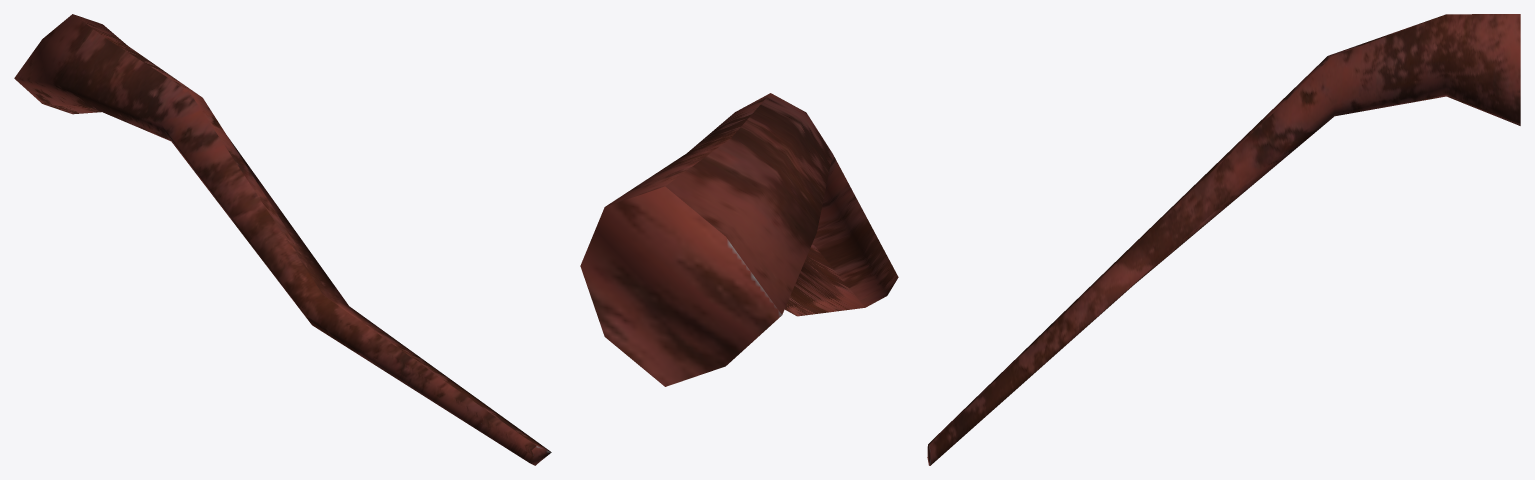
The model's file is Gras_1.fbx.
The picture shows the model from 3 angles, left to right: view 1: azimuth 30°, elevation 25°; view 2: azimuth 150°, elevation 25°; view 3: azimuth 270°, elevation 25°; orthographic projection. The views are drawn at different scales.
Parts seen in each view (by area): view 1: Gras_1; view 2: Gras_1; view 3: Gras_1.
Boxes of the visible parts, <box> form: Gras_1: <box>14,14,551,465</box>; Gras_1: <box>580,93,898,386</box>; Gras_1: <box>927,14,1520,465</box>.
Bounding box in the file's own units: 0.5302 × 0.5672 × 0.8876.
Materials: 1 (1 with a texture image).
